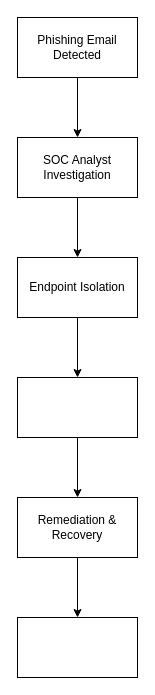
Some shapes in this 155 by 695 pixel diagram are drawn without their labels. The shapes that lost their labels are listed below. From the top down, each one's centre as x and y in pixels, then its label:
At (77,407): "Malicious Link Analysis".
At (77,647): "Post-Incident Review".
